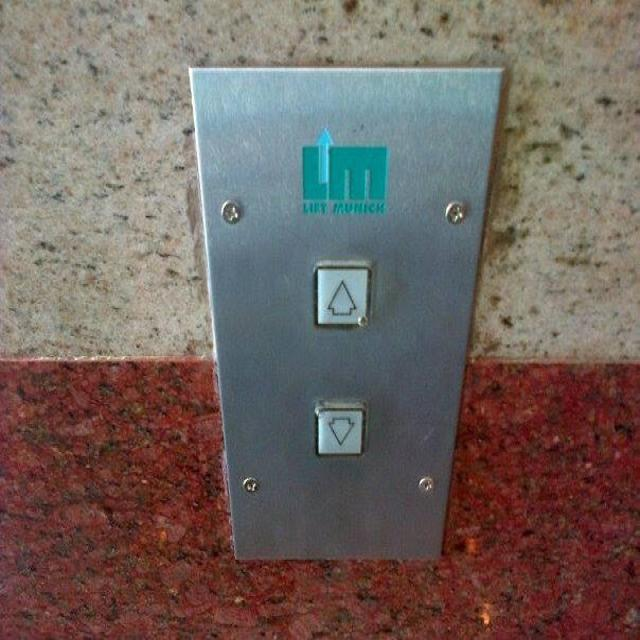down: (311, 397, 365, 459)
up: (311, 256, 370, 329)
